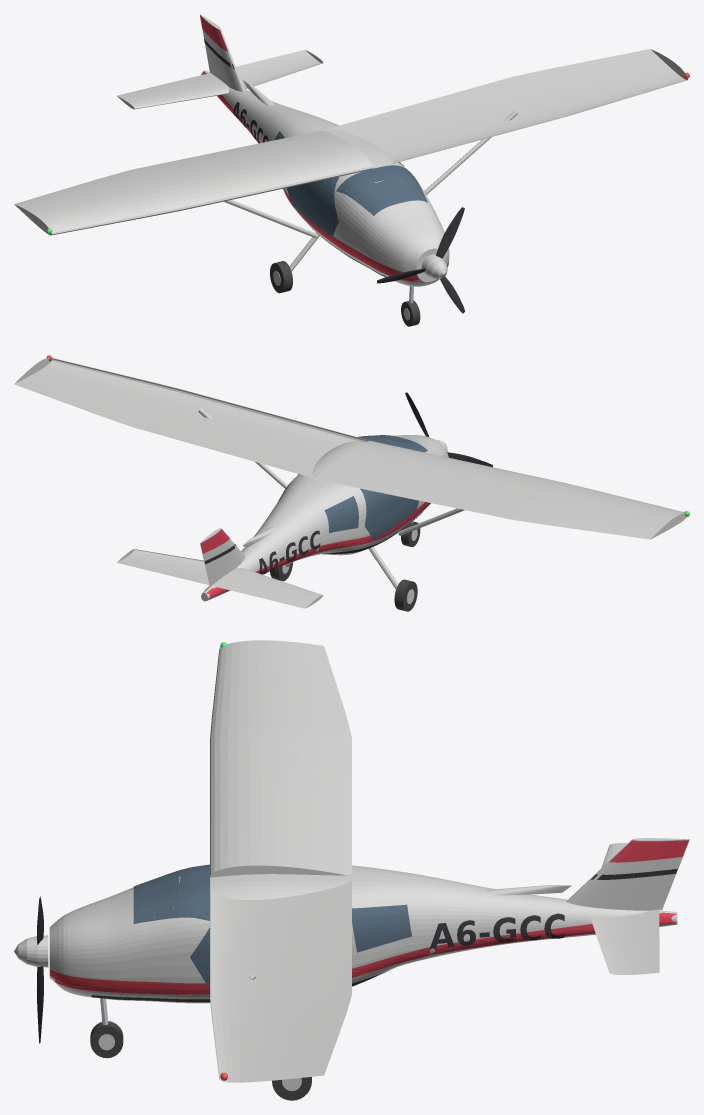
The model's file is aircraft-3.glb.
3 renders of one model, top to bottom at view 1: azimuth 30°, elevation 25°; view 2: azimuth 150°, elevation 25°; view 3: azimuth 270°, elevation 25°, orthographic. The views are drawn at different scales.
Parts seen in each view (by area): view 1: body_white, body_glass, body_red, propeller_black, body_tyre, body_black, propeller_white; view 2: body_white, body_glass, body_red, body_tyre, body_black, propeller_black; view 3: body_white, body_glass, body_red, body_black, body_tyre, propeller_white, propeller_black.
Boxes of the visible parts, left/top/right/bottom form: body_white: left=14, top=14, right=687, bottom=286; body_glass: left=275, top=131, right=427, bottom=236; body_red: left=200, top=15, right=448, bottom=282; propeller_black: left=377, top=207, right=464, bottom=313; body_tyre: left=270, top=261, right=420, bottom=326; body_black: left=204, top=39, right=385, bottom=277; propeller_white: left=421, top=254, right=447, bottom=279; body_white: left=14, top=357, right=686, bottom=608; body_glass: left=277, top=435, right=427, bottom=540; body_red: left=200, top=502, right=430, bottom=599; body_tyre: left=270, top=521, right=420, bottom=611; body_black: left=204, top=512, right=422, bottom=574; propeller_black: left=405, top=392, right=492, bottom=467; body_white: left=49, top=640, right=689, bottom=1082; body_glass: left=133, top=864, right=411, bottom=984; body_red: left=50, top=840, right=688, bottom=994; body_black: left=91, top=869, right=677, bottom=1002; body_tyre: left=90, top=1021, right=311, bottom=1100; propeller_white: left=14, top=935, right=48, bottom=967; propeller_black: left=37, top=896, right=43, bottom=1043.
Bounding box in the file's own units: 9.55 × 2.22 × 6.29.
